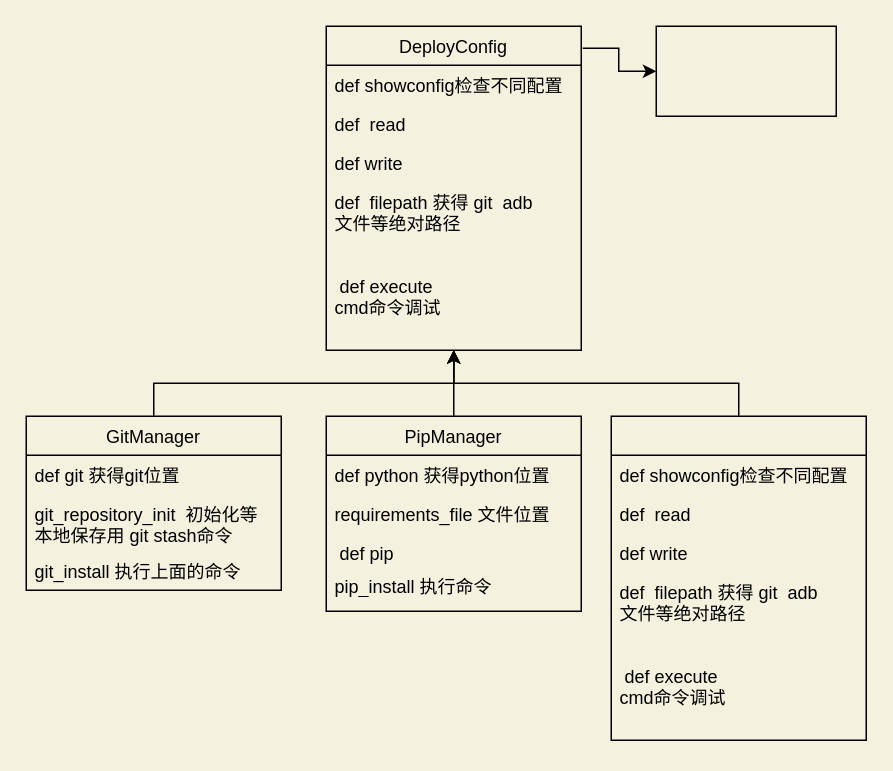
Image size: 893x771. Some labels were removed from this diagram. Here are the shapes that lost their labels. From the top down, the box of each, then its label:
(655, 25, 836, 116): 初始化时候进行传递配置文件位置
(610, 415, 866, 740): AppManager
